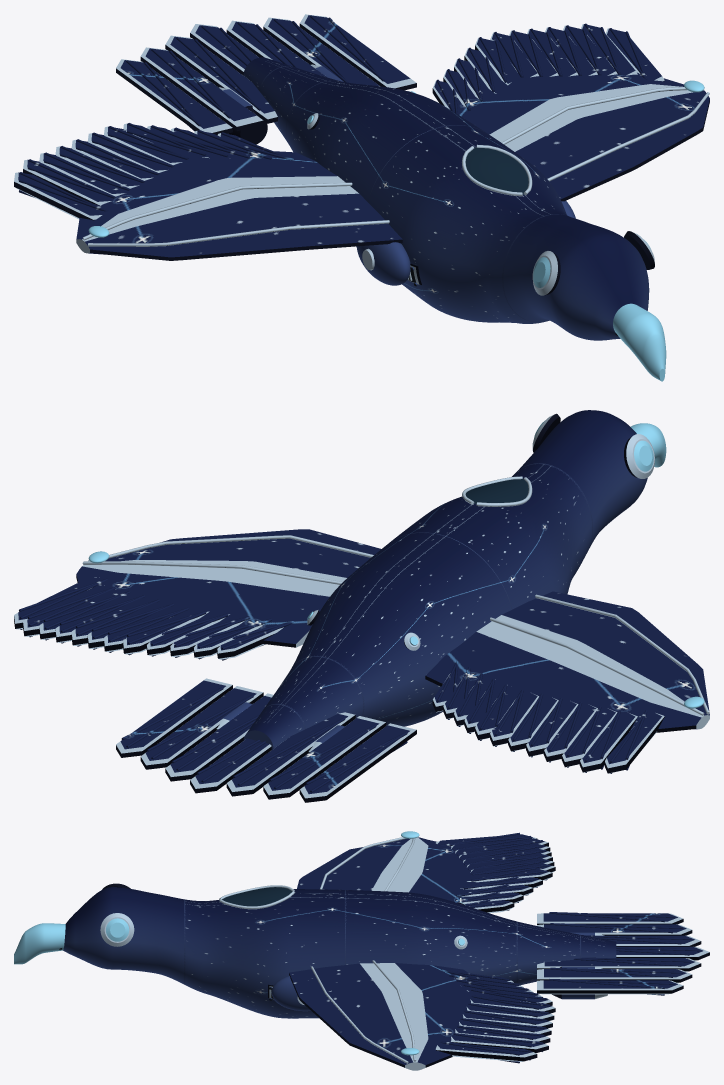
3 views of the same model, one above another, from view 1: azimuth 30°, elevation 25°; view 2: azimuth 150°, elevation 25°; view 3: azimuth 270°, elevation 25° (orthographic). The views are drawn at different scales.
Visible parts, largest first — view 1: oxpecker_hull; view 2: oxpecker_hull; view 3: oxpecker_hull.
Boxes of the visible parts, x1,y1,x2,y2 form: oxpecker_hull: (14,14,709,381); oxpecker_hull: (14,410,709,802); oxpecker_hull: (14,831,709,1070).
Bounding box in the file's own units: 12.31 × 3.09 × 16.
1 material, 1 textured.
